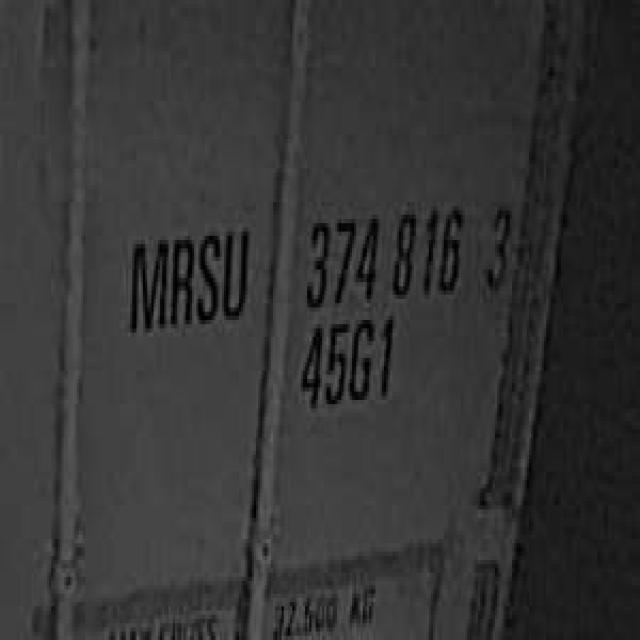dv: (480, 189, 516, 295)
owner: (121, 206, 252, 341)
serial: (299, 190, 467, 312)
size: (294, 307, 399, 417)
